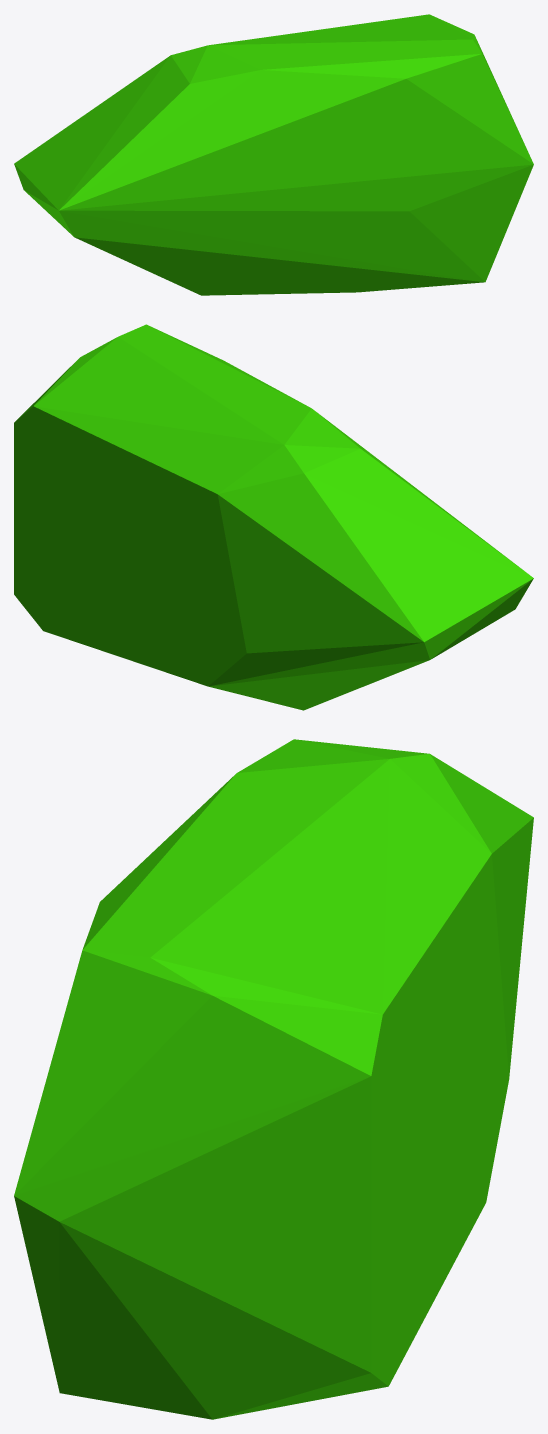
Rendered from model0_convex_piece_023.obj.
3 renders of one model, top to bottom at view 1: azimuth 30°, elevation 25°; view 2: azimuth 150°, elevation 25°; view 3: azimuth 270°, elevation 25°, orthographic. The views are drawn at different scales.
Size of the model in its own units: 0.0289 by 0.0146 by 0.0155.
